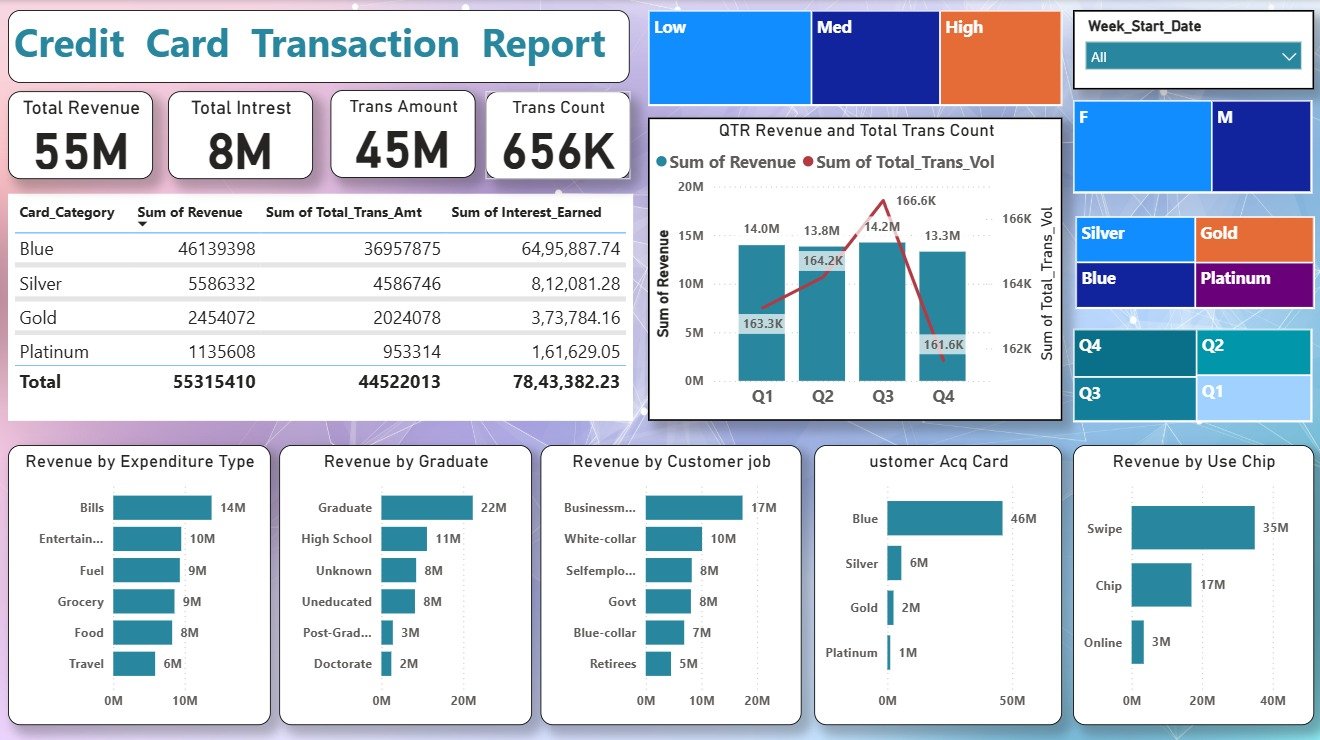

The dashboard page shown, as its layout file describes it:
{"tool":"powerbi","page":{"name":"CC Transaction","canvas":[1280,720],"ordinal":1},"visuals":[{"type":"textbox","box":[9.8,10,600,70],"z":0},{"type":"lineStackedColumnComboChart","title":"QTR Revenue and Total Trans Count","fields":{"Category":["public cc_details.Qtr"],"Y":["Sum(public cc_details.Revenue)"],"Y2":["Sum(public cc_details.Total_Trans_Vol)"]},"box":[627.8,113.9,400.1,292.8],"z":1000},{"type":"barChart","title":"Revenue by Expenditure Type","fields":{"Category":["public cc_details.Exp Type"],"Y":["Sum(public cc_details.Revenue)"]},"box":[9.8,429.4,253.7,270],"z":2000},{"type":"barChart","title":"Revenue by Graduate","fields":{"Category":["public cust_details.Education_Level"],"Y":["Sum(public cc_details.Revenue)"]},"box":[271.6,429.4,244,270],"z":3000},{"type":"barChart","title":"Revenue by Customer job","fields":{"Category":["public cust_details.Customer_Job"],"Y":["Sum(public cc_details.Revenue)"]},"box":[523.7,429.4,252.1,270],"z":4000},{"type":"barChart","title":"ustomer Acq Card","fields":{"Category":["public cc_details.Card_Category"],"Y":["Sum(public cc_details.Revenue)"]},"box":[787.2,429.4,239.1,270],"z":5000},{"type":"barChart","title":"Revenue by Use Chip","fields":{"Category":["public cc_details.Use Chip"],"Y":["Sum(public cc_details.Revenue)"]},"box":[1037.7,429.4,232.6,270],"z":6000},{"type":"tableEx","fields":{"Values":["public cc_details.Card_Category","Sum(public cc_details.Revenue)","Sum(public cc_details.Total_Trans_Amt)","Sum(public cc_details.Interest_Earned)"]},"box":[9.8,187.1,603.4,219.6],"z":7000},{"type":"card","title":"Total Revenue","fields":{"Values":["Sum(public cc_details.Revenue)"]},"box":[9.8,87.8,140,85],"z":8000},{"type":"card","title":"Trans Amount","fields":{"Values":["Sum(public cc_details.Total_Trans_Amt)"]},"box":[320.4,87,140,85],"z":9000},{"type":"card","title":"Trans Count","fields":{"Values":["Sum(public cc_details.Total_Trans_Vol)"]},"box":[470.1,87.8,140,85],"z":10000},{"type":"card","title":"Total Intrest","fields":{"Values":["Sum(public cc_details.Interest_Earned)"]},"box":[164.3,87.8,140,85],"z":11000},{"type":"slicer","fields":{"Values":["public cc_details.Week_Start_Date"]},"box":[1037.7,9.8,232.6,76.4],"z":12000},{"type":"treemap","fields":{"Group":["public cc_details.Qtr"],"Values":["Avg(public cust_details.Client_Num)"]},"box":[1037.7,317.2,231,90],"z":13000},{"type":"treemap","fields":{"Group":["public cust_details.Gender"],"Values":["CountNonNull(public cust_details.Client_Num)"]},"box":[1037.7,96,231,90],"z":14000},{"type":"treemap","fields":{"Group":["public cc_details.Card_Category"],"Values":["Avg(public cust_details.Client_Num)"]},"box":[1039.4,208.2,231,89.5],"z":15000},{"type":"treemap","fields":{"Group":["public cust_details.IncomeGroup"],"Values":["CountNonNull(public cust_details.Client_Num)"]},"box":[627.8,9.8,400.1,92.7],"z":16000}]}

Visuals, with their boxes in screenshot pixels (x1, y1, x2, y2), scaled from the page's 1280x720 canvas onto the 1320x740 screenshot:
textbox: left=10, top=10, right=629, bottom=82
"QTR Revenue and Total Trans Count" lineStackedColumnComboChart: left=647, top=117, right=1060, bottom=418
"Revenue by Expenditure Type" barChart: left=10, top=441, right=272, bottom=719
"Revenue by Graduate" barChart: left=280, top=441, right=532, bottom=719
"Revenue by Customer job" barChart: left=540, top=441, right=800, bottom=719
"ustomer Acq Card" barChart: left=812, top=441, right=1058, bottom=719
"Revenue by Use Chip" barChart: left=1070, top=441, right=1310, bottom=719
tableEx - public cc_details.Card_Category x Sum(public cc_details.Revenue): left=10, top=192, right=632, bottom=418
"Total Revenue" card: left=10, top=90, right=154, bottom=178
"Trans Amount" card: left=330, top=89, right=475, bottom=177
"Trans Count" card: left=485, top=90, right=629, bottom=178
"Total Intrest" card: left=169, top=90, right=314, bottom=178
slicer - public cc_details.Week_Start_Date: left=1070, top=10, right=1310, bottom=89
treemap - public cc_details.Qtr x Avg(public cust_details.Client_Num): left=1070, top=326, right=1308, bottom=419
treemap - public cust_details.Gender x CountNonNull(public cust_details.Client_Num): left=1070, top=99, right=1308, bottom=191
treemap - public cc_details.Card_Category x Avg(public cust_details.Client_Num): left=1072, top=214, right=1310, bottom=306
treemap - public cust_details.IncomeGroup x CountNonNull(public cust_details.Client_Num): left=647, top=10, right=1060, bottom=105
